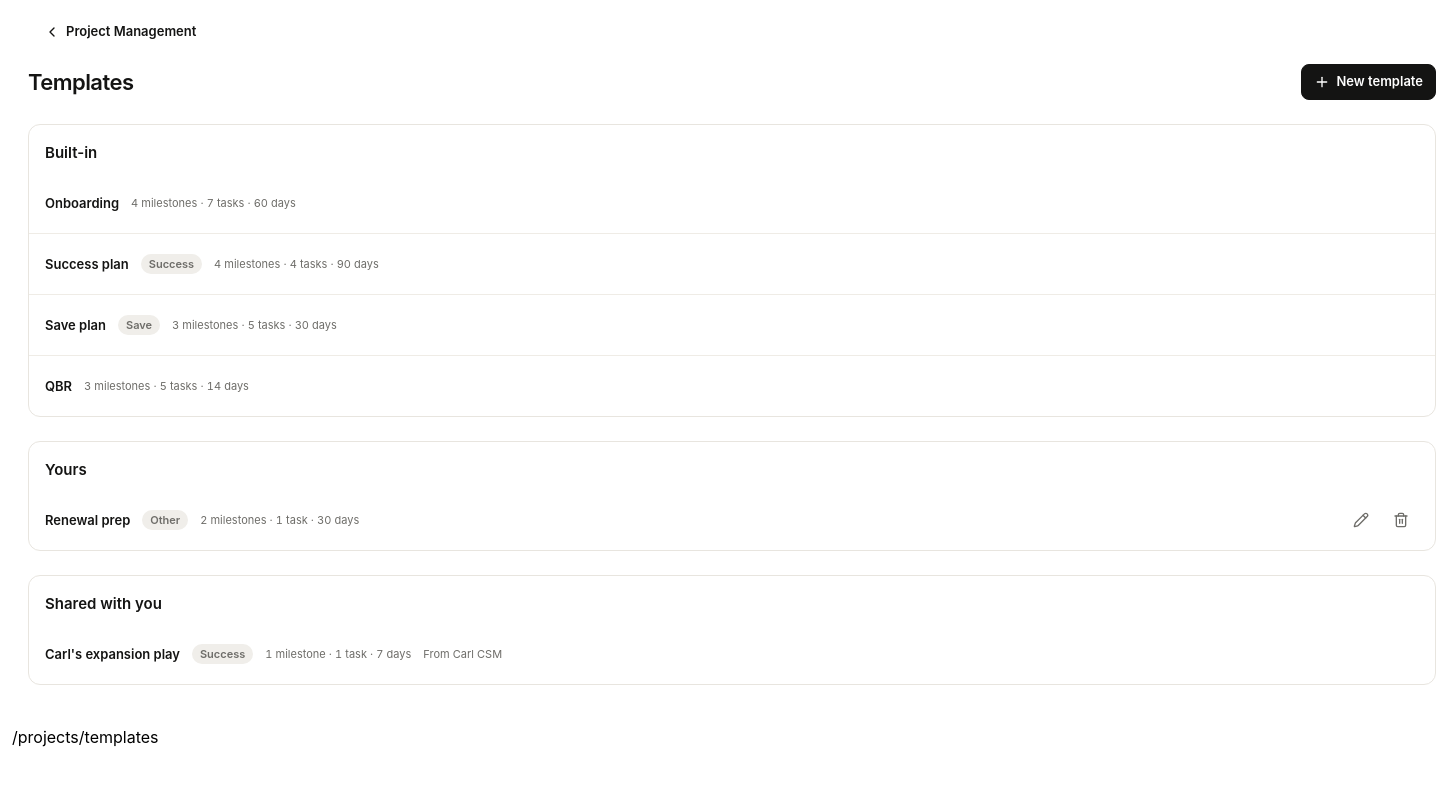
templates (spec §2.4) › opens a template in place to view it, and Use starts a plan from it
Click the button "Onboarding". click: (82, 203)
box: [45,185,119,221]
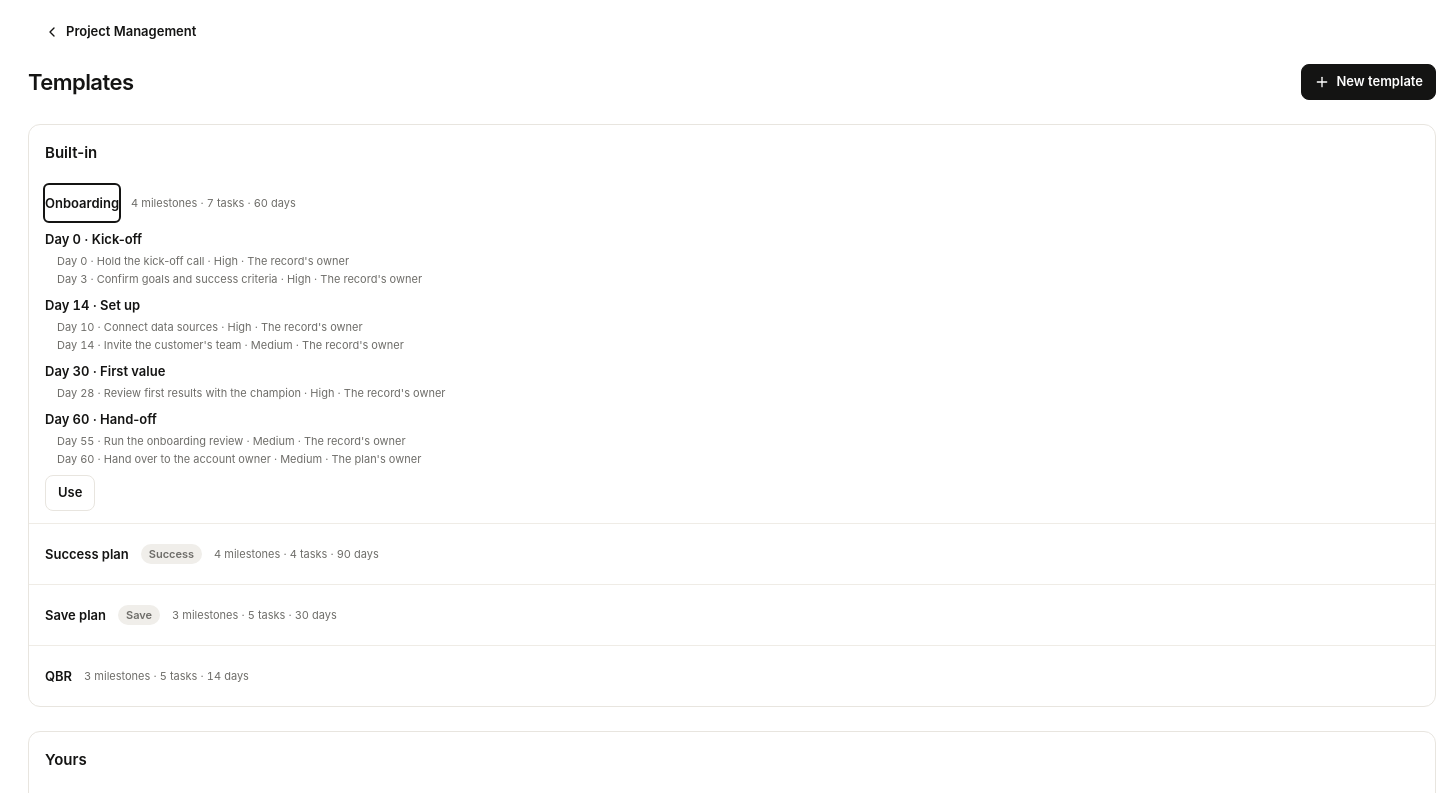
Check: the list item "Onboarding" shows "Day 0 · Kick-off", box [29,173,1435,524]
Check: the list item "Onboarding" shows "Hand over to the account owner", box [104,452,271,466]
Check: the list item "Onboarding" shows "The plan's owner", box [331,452,421,466]
